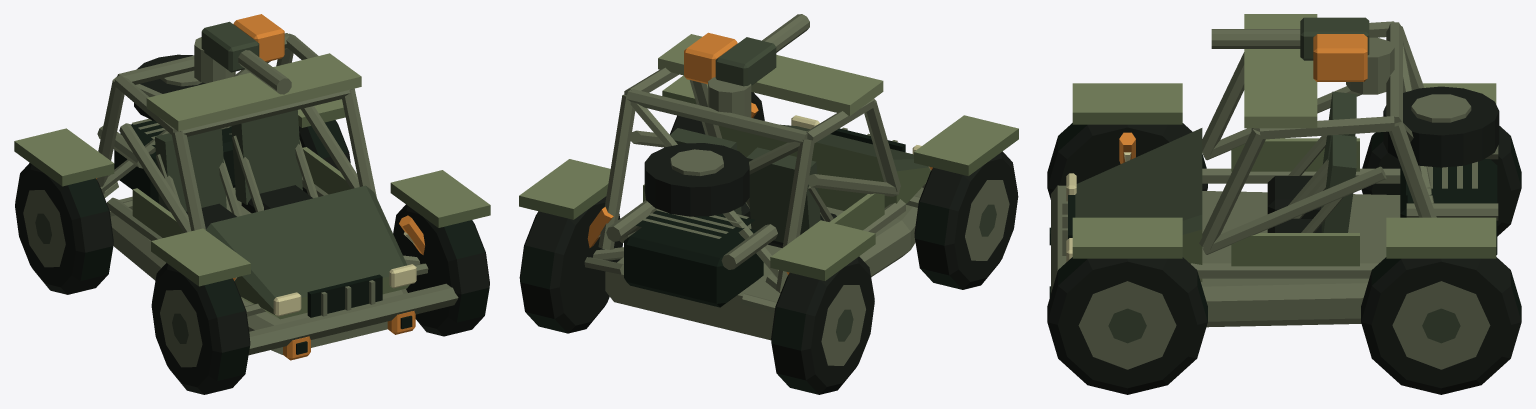
The model's file is buggy_field.glb.
3 renders of one model, left to right at view 1: azimuth 30°, elevation 25°; view 2: azimuth 150°, elevation 25°; view 3: azimuth 270°, elevation 25°, orthographic. The views are drawn at different scales.
Parts seen in each view (by area): view 1: Body, Wheel_-0.85_0.84, Wheel_-0.85_-0.84, Wheel_0.85_-0.84, WeaponPitch, Wheel_0.85_0.84; view 2: Body, Wheel_-0.85_0.84, Wheel_-0.85_-0.84, Wheel_0.85_0.84, WeaponPitch, Wheel_0.85_-0.84; view 3: Body, Wheel_0.85_0.84, Wheel_0.85_-0.84, WeaponPitch, Wheel_-0.85_-0.84, Wheel_-0.85_0.84.
Boxes of the visible parts, <box> form: Body: <box>14,33,490,360</box>; Wheel_-0.85_0.84: <box>15,163,113,294</box>; Wheel_-0.85_-0.84: <box>151,263,250,394</box>; Wheel_0.85_-0.84: <box>393,204,489,336</box>; WeaponPitch: <box>201,14,291,94</box>; Wheel_0.85_0.84: <box>299,120,350,193</box>; Body: <box>519,34,1018,340</box>; Wheel_-0.85_0.84: <box>771,256,874,394</box>; Wheel_-0.85_-0.84: <box>914,151,1018,289</box>; Wheel_0.85_0.84: <box>519,196,622,333</box>; WeaponPitch: <box>684,14,809,86</box>; Wheel_0.85_-0.84: <box>670,92,764,134</box>; Body: <box>1049,14,1499,327</box>; Wheel_0.85_0.84: <box>1361,257,1521,394</box>; Wheel_0.85_-0.84: <box>1047,257,1207,394</box>; WeaponPitch: <box>1211,17,1369,81</box>; Wheel_-0.85_-0.84: <box>1047,123,1207,199</box>; Wheel_-0.85_0.84: <box>1361,126,1521,236</box>.
Size of the model in its own units: 3.31 by 2.8 by 4.06.
1 material, 1 textured.
